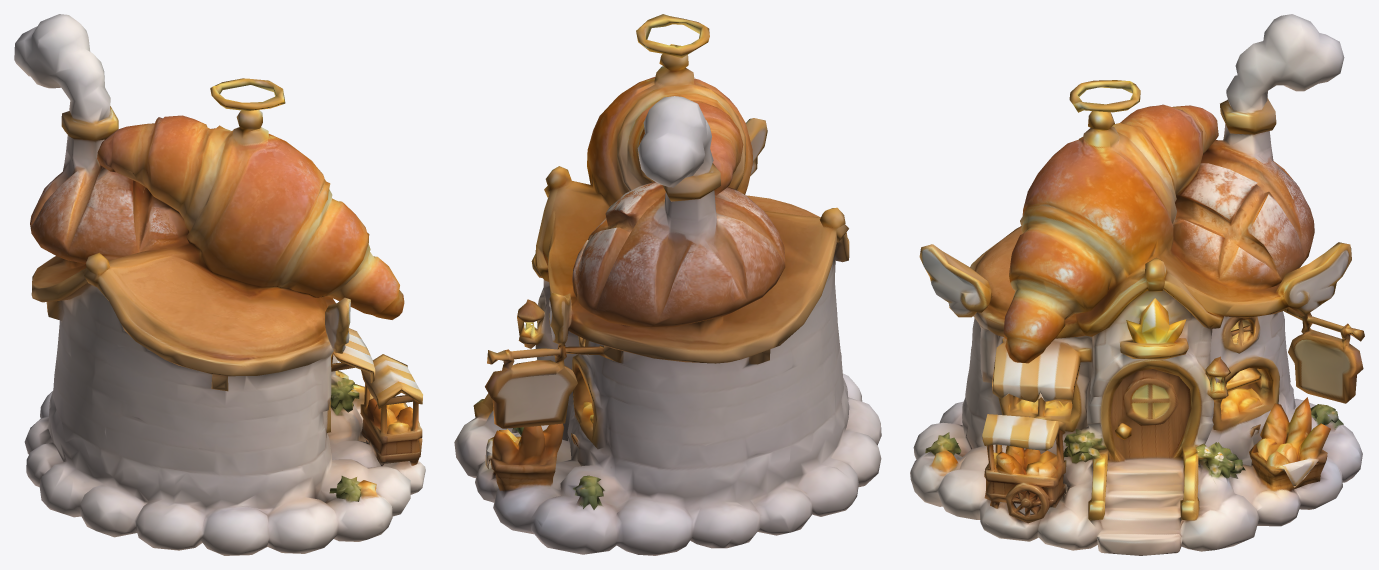
The model's file is Town_Halo_Bakery_raw.glb.
The picture shows the model from 3 angles, left to right: view 1: azimuth 30°, elevation 25°; view 2: azimuth 150°, elevation 25°; view 3: azimuth 270°, elevation 25°; orthographic projection. The views are drawn at different scales.
Parts seen in each view (by area): view 1: tripo_node_ce61ff71-6406-4d10-a922-c8cc0d5d1841; view 2: tripo_node_ce61ff71-6406-4d10-a922-c8cc0d5d1841; view 3: tripo_node_ce61ff71-6406-4d10-a922-c8cc0d5d1841.
Boxes of the visible parts, x1,y1,x2,y2 form: tripo_node_ce61ff71-6406-4d10-a922-c8cc0d5d1841: (14, 14, 425, 555); tripo_node_ce61ff71-6406-4d10-a922-c8cc0d5d1841: (454, 14, 881, 555); tripo_node_ce61ff71-6406-4d10-a922-c8cc0d5d1841: (910, 14, 1364, 555).
Bounding box in the file's own units: 0.8464 × 1 × 0.9853.
1 material, 1 textured.
